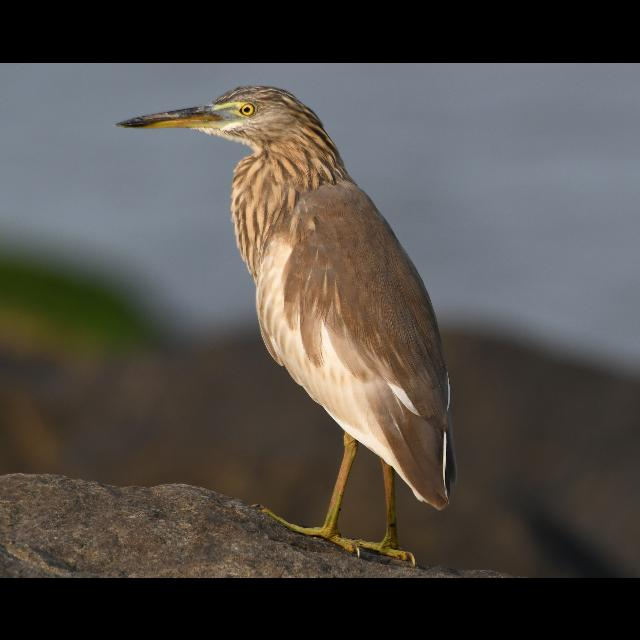heron: (110, 74, 483, 566)
